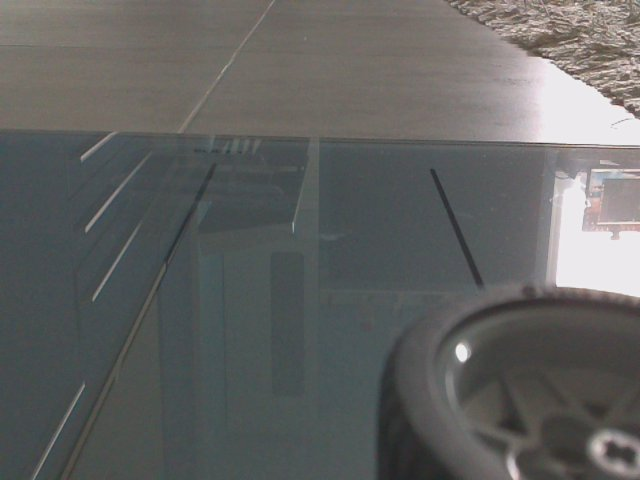Rad: (370, 282, 637, 476)
